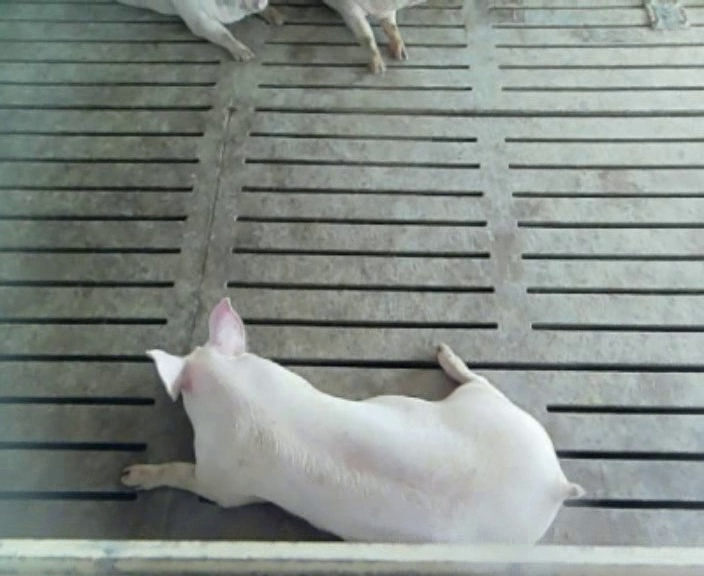pig: (121, 298, 582, 542), (125, 0, 282, 61)
